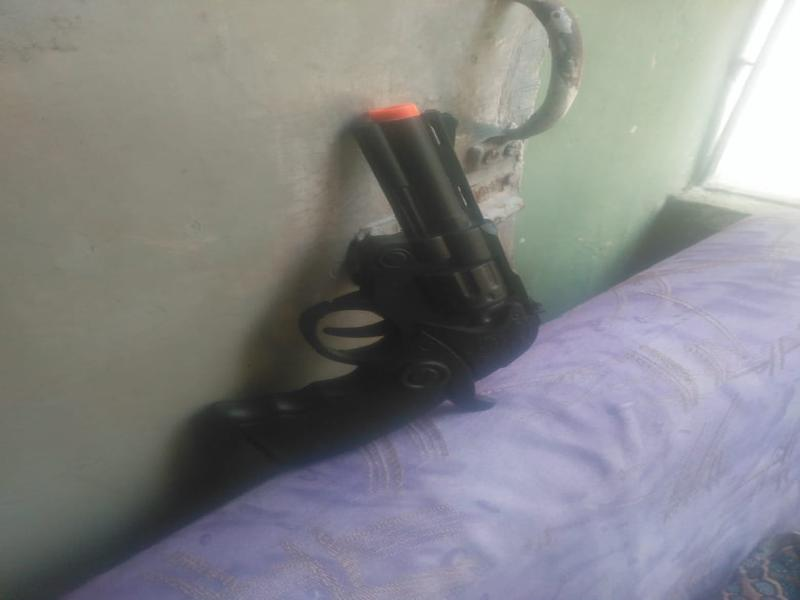gun: (197, 87, 587, 441)
